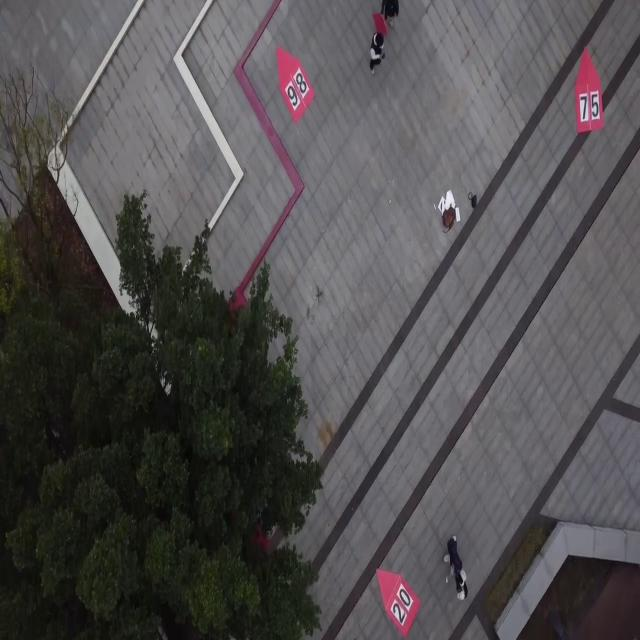-sign-: (376, 567, 420, 637), (276, 45, 315, 122), (574, 45, 604, 134)
